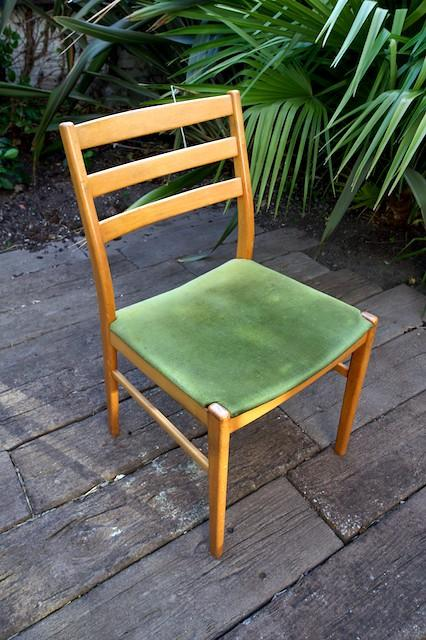chair: (59, 88, 380, 559)
